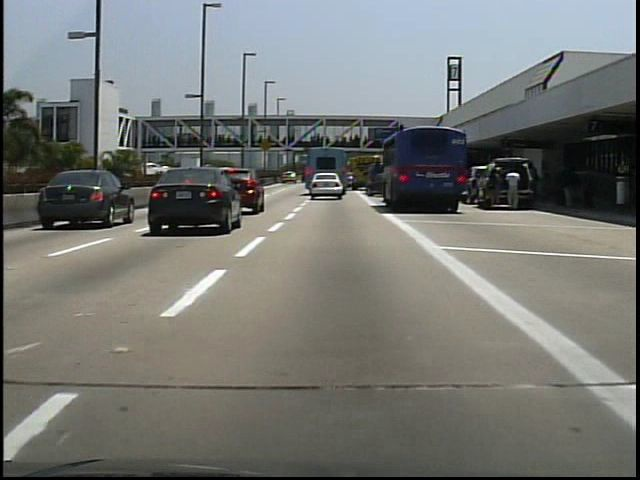person: (484, 164, 507, 217), (504, 162, 523, 213), (559, 167, 575, 209)
